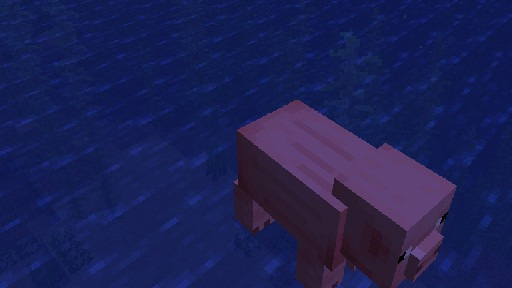pig: (233, 98, 457, 288)
